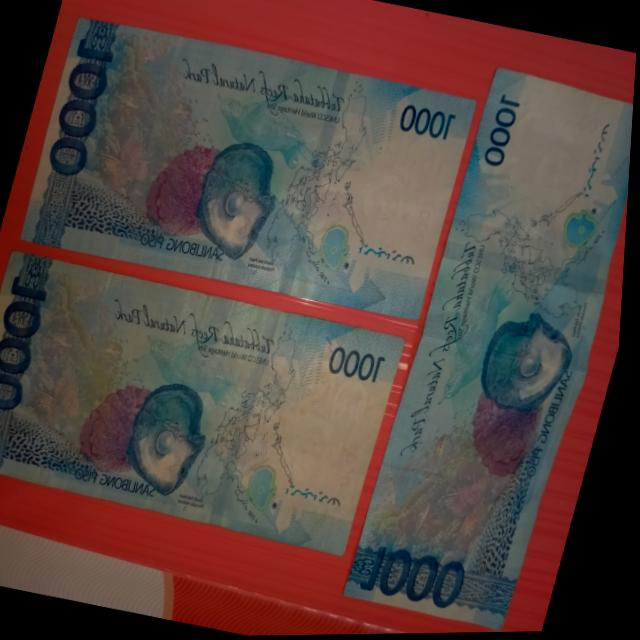see_through_mark: (351, 238, 426, 277)
value_watermark: (410, 198, 438, 253)
watermark: (285, 345, 382, 483), (489, 100, 598, 218)
